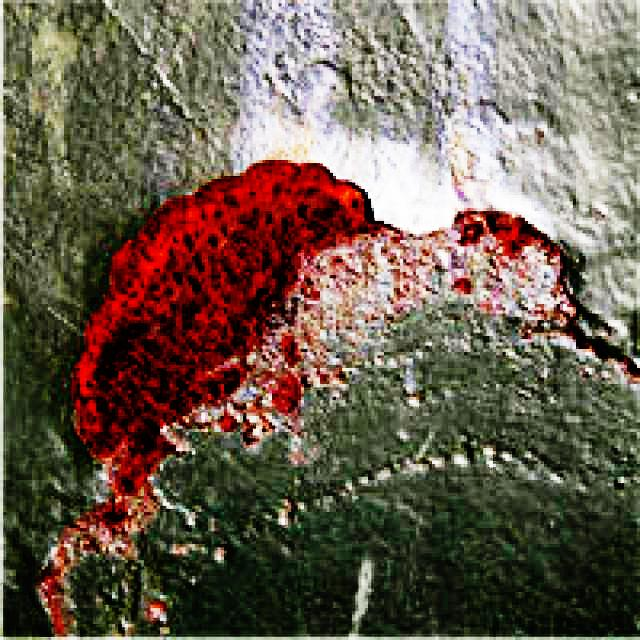Corrosion: (41, 160, 369, 636), (62, 160, 368, 544), (72, 160, 368, 499), (487, 213, 538, 255), (272, 375, 301, 415), (460, 222, 485, 245), (283, 336, 298, 367), (302, 287, 321, 303), (455, 278, 473, 294), (221, 414, 236, 432)
